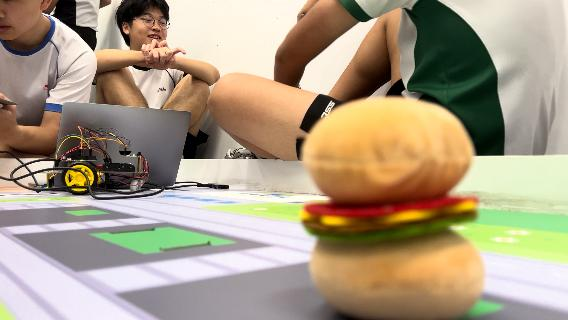burger: (296, 95, 488, 317)
